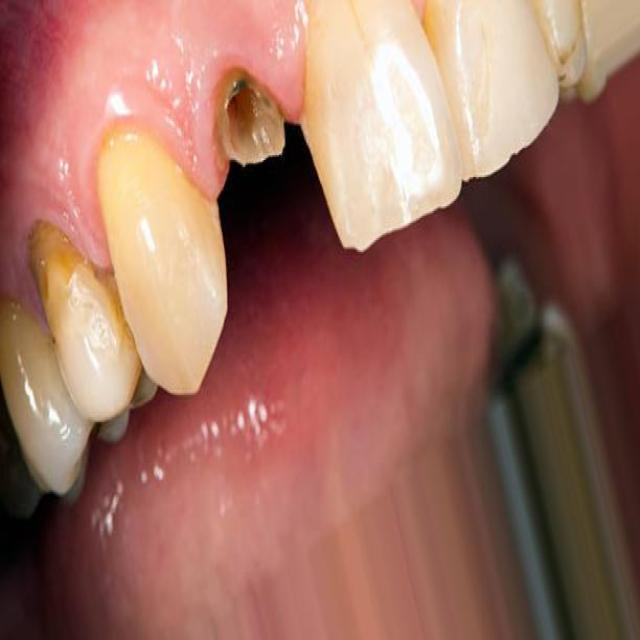caries: (207, 53, 300, 183), (21, 207, 86, 310)
